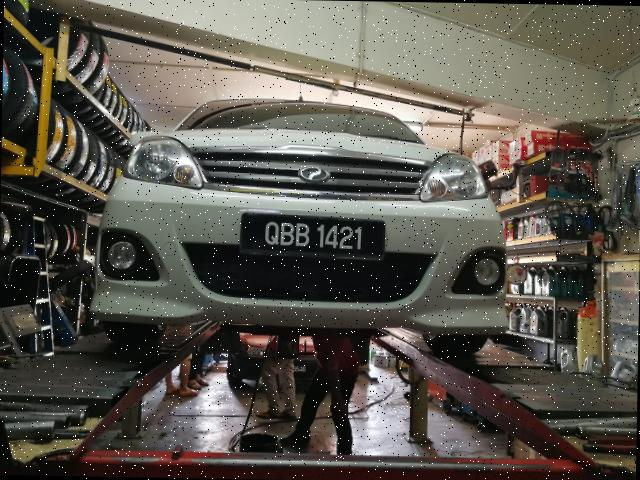License_Plate: (241, 215, 385, 260)
car: (93, 85, 514, 347)
